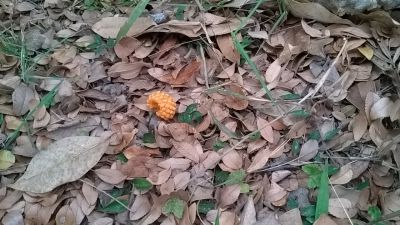eggs: (146, 90, 176, 118)
